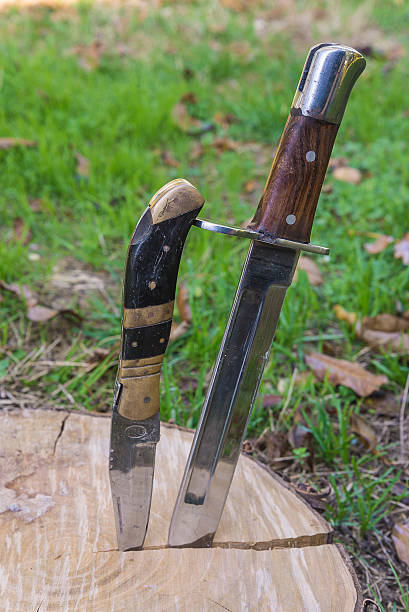knife: (162, 39, 370, 550), (106, 174, 206, 551)
